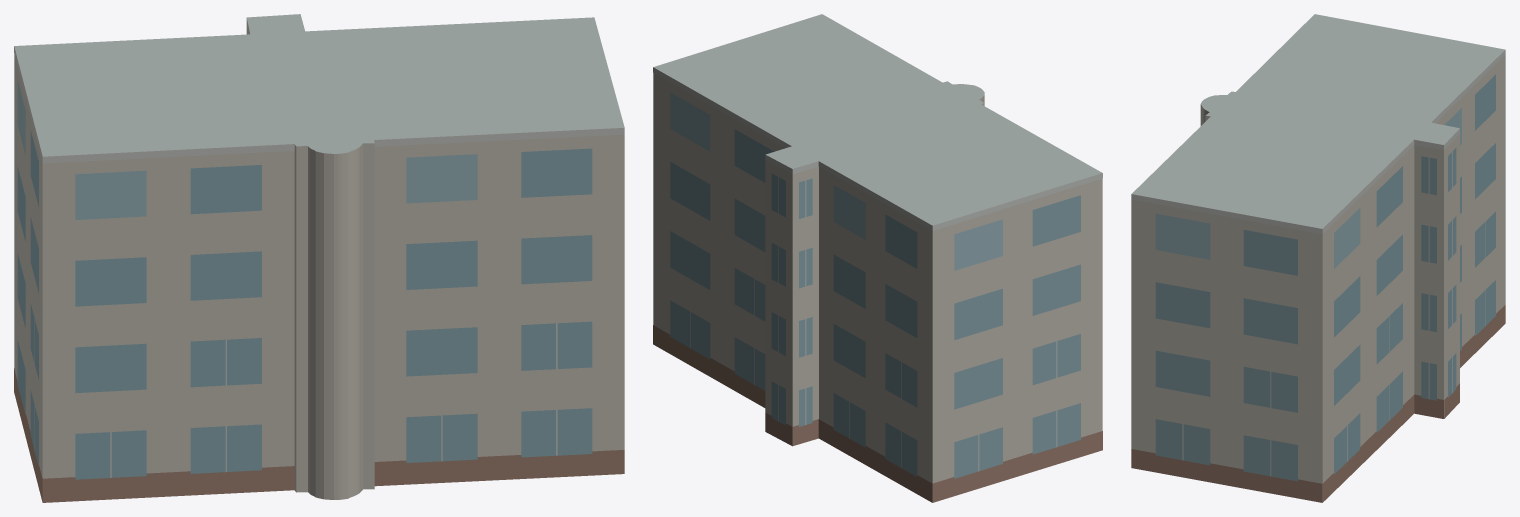
Rendered from survey-upis-32531951.glb.
3 views of the same model, side by side, from view 1: azimuth 30°, elevation 25°; view 2: azimuth 150°, elevation 25°; view 3: azimuth 270°, elevation 25° (orthographic). The views are drawn at different scales.
Visible parts, largest first — view 1: survey-upis-32531951.tmp; view 2: survey-upis-32531951.tmp; view 3: survey-upis-32531951.tmp.
Part boxes in pixels (bbox=[...]): survey-upis-32531951.tmp: bbox=[14, 14, 624, 502]; survey-upis-32531951.tmp: bbox=[653, 14, 1102, 502]; survey-upis-32531951.tmp: bbox=[1131, 14, 1505, 502].
Bounding box in the file's own units: 21.04 × 12.5 × 15.48.
